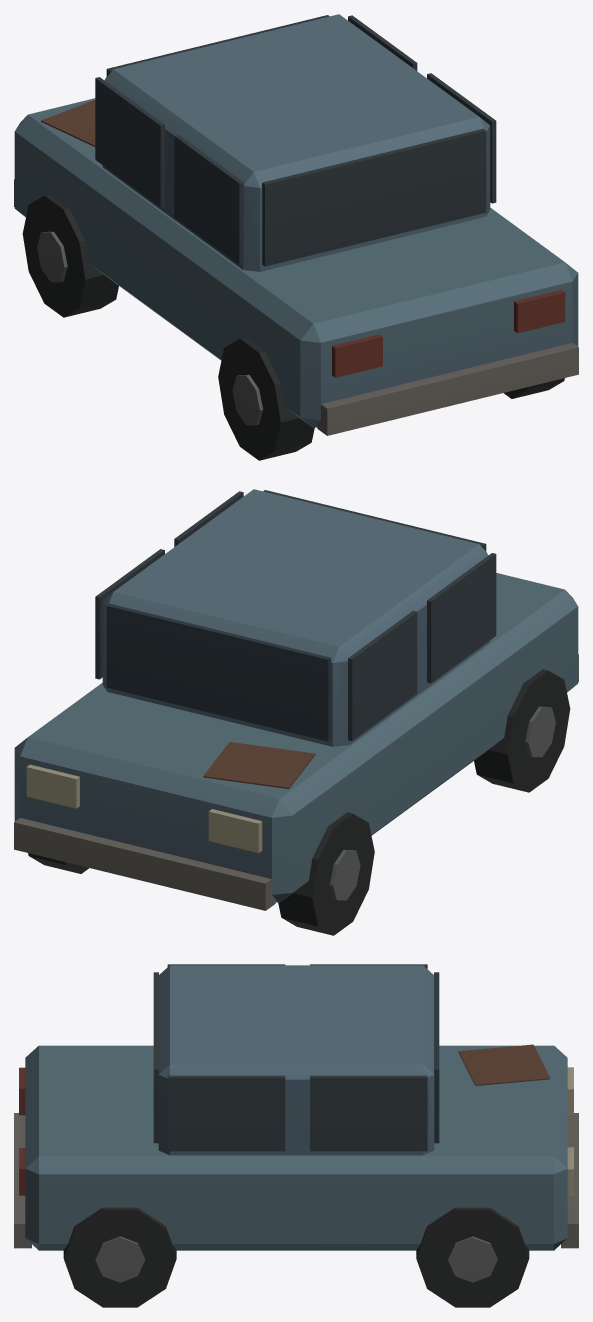
File: AC_CarBlue.glb
3 views of the same model, one above another, from view 1: azimuth 30°, elevation 25°; view 2: azimuth 150°, elevation 25°; view 3: azimuth 270°, elevation 25° (orthographic). The views are drawn at different scales.
Visible parts, largest first — view 1: AC_CarBlue__Body; view 2: AC_CarBlue__Body; view 3: AC_CarBlue__Body.
Part boxes in pixels (left/top/right/bottom): AC_CarBlue__Body: left=14, top=14, right=578, bottom=460; AC_CarBlue__Body: left=14, top=489, right=578, bottom=935; AC_CarBlue__Body: left=14, top=964, right=578, bottom=1307.
Size of the model in its own units: 6.82 by 5.59 by 12.5.
